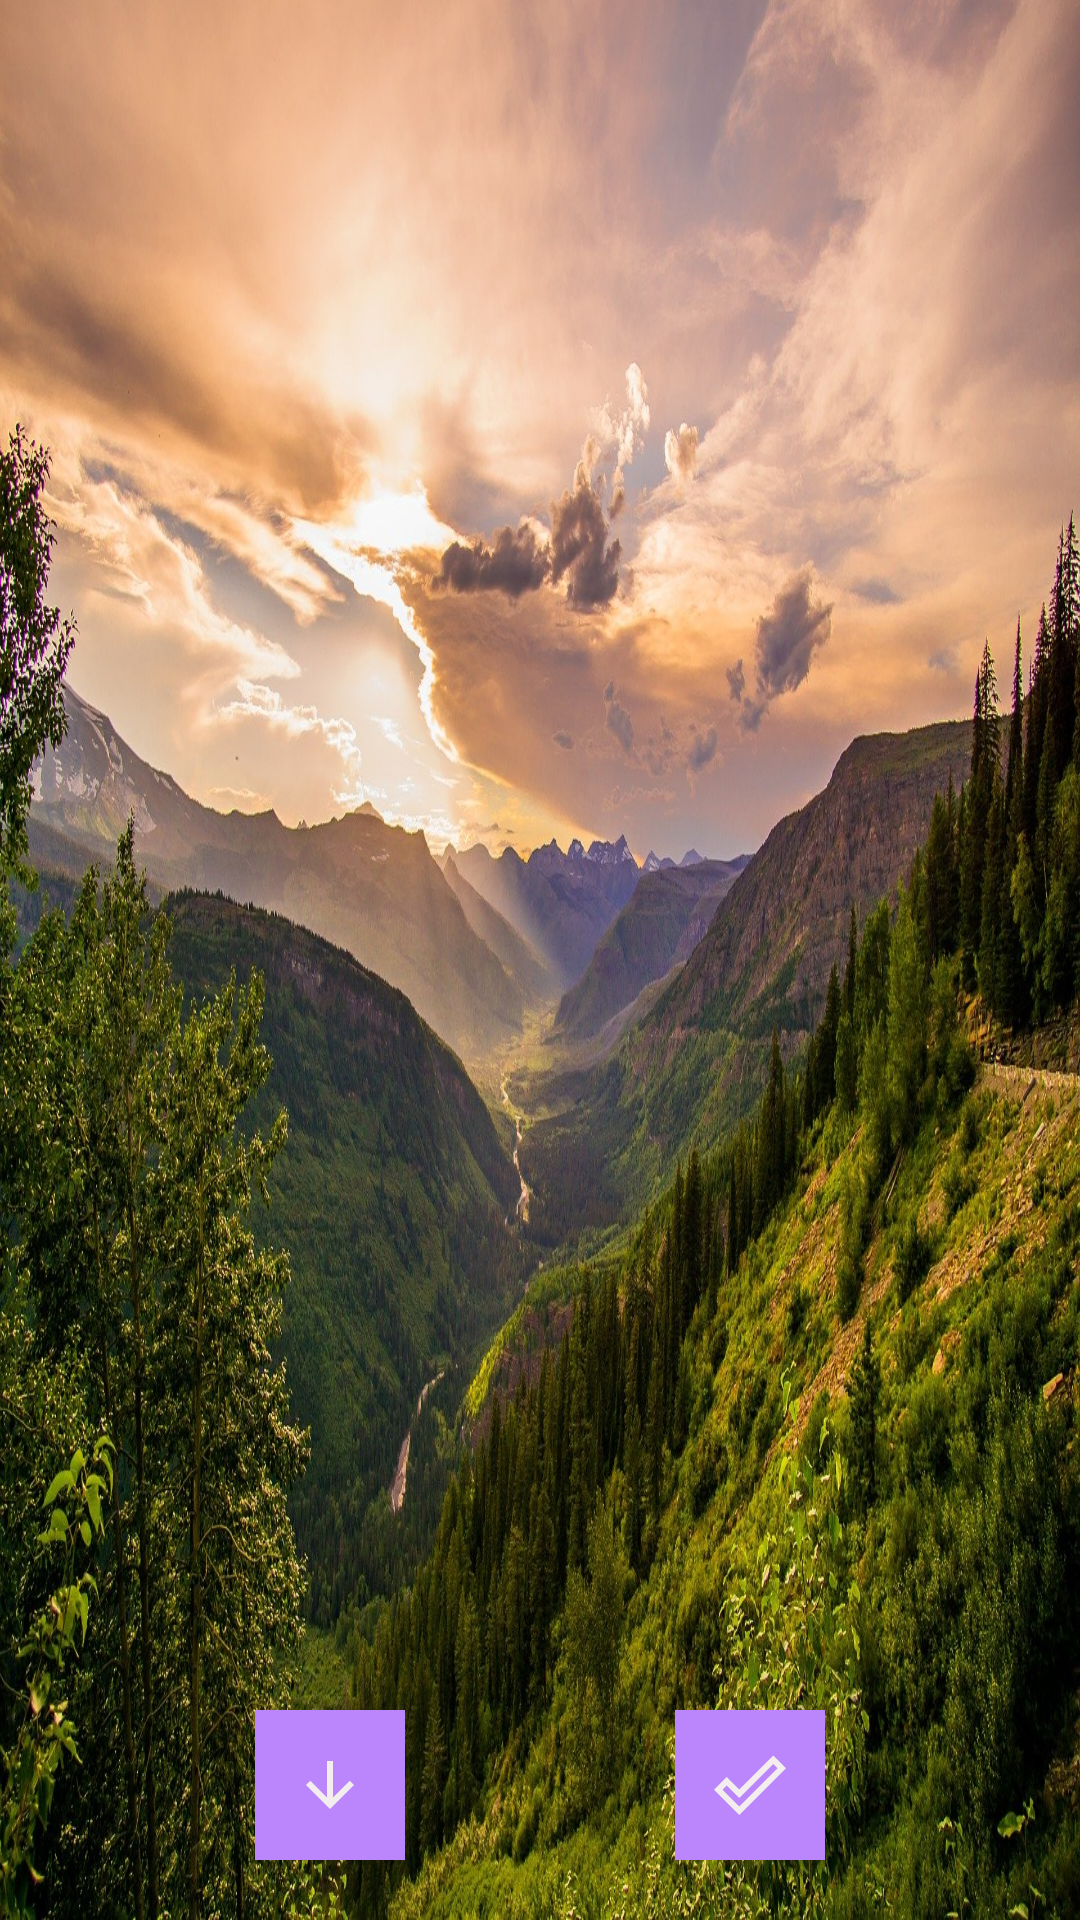

Named icons in this screenshot (1080 × 1920) and their centers, [x,y]:
arrow downward: [330,1785]
done: [750,1785]
